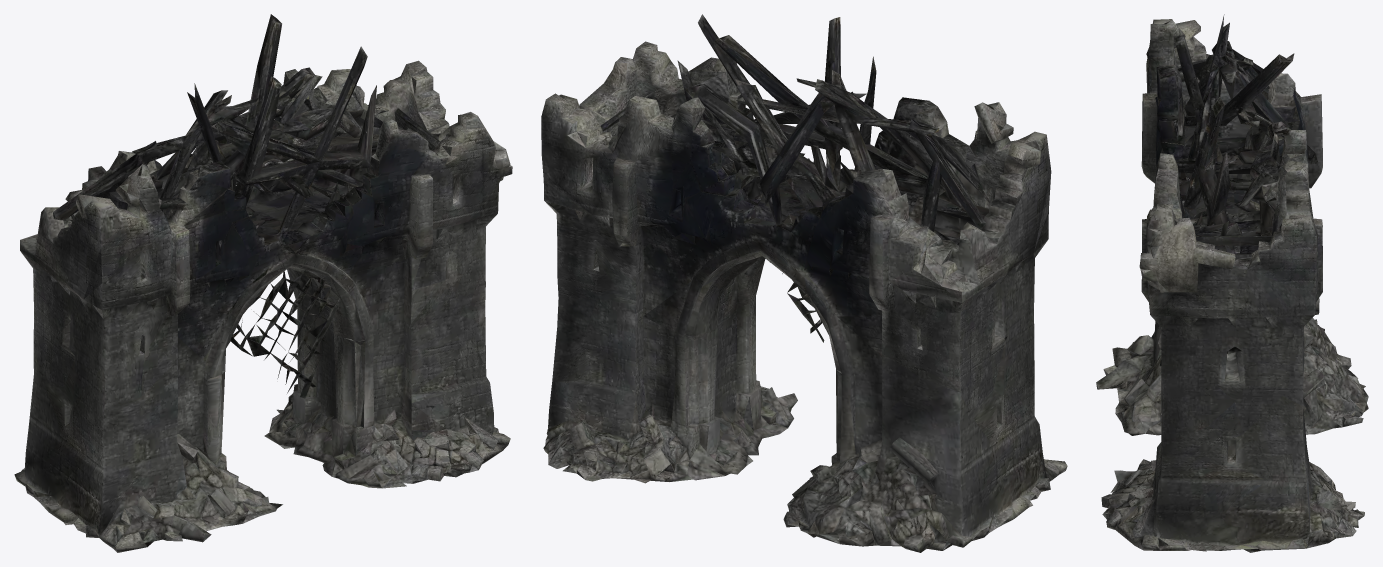
File: aacc3a14-3a74-4e3b-be87-319278f95d42.glb
3 views of the same model, side by side, from view 1: azimuth 30°, elevation 25°; view 2: azimuth 150°, elevation 25°; view 3: azimuth 270°, elevation 25° (orthographic). The views are drawn at different scales.
Visible parts, largest first — view 1: Mesh_0.003; view 2: Mesh_0.003; view 3: Mesh_0.003.
Part boxes in pixels (<box>): Mesh_0.003: <box>14,14,512,552</box>; Mesh_0.003: <box>541,14,1067,552</box>; Mesh_0.003: <box>1096,14,1368,552</box>.
Size of the model in its own units: 12.63 by 12 by 7.09.
1 material, 1 textured.
